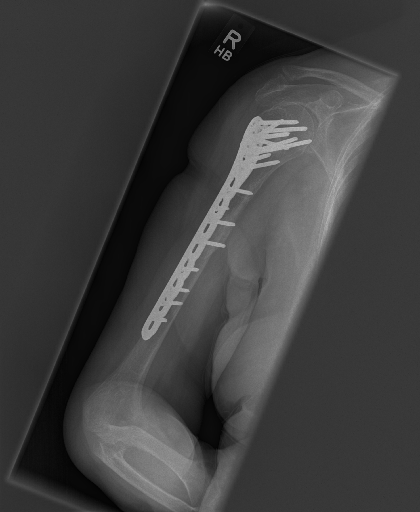implant: (143, 116, 314, 341)
